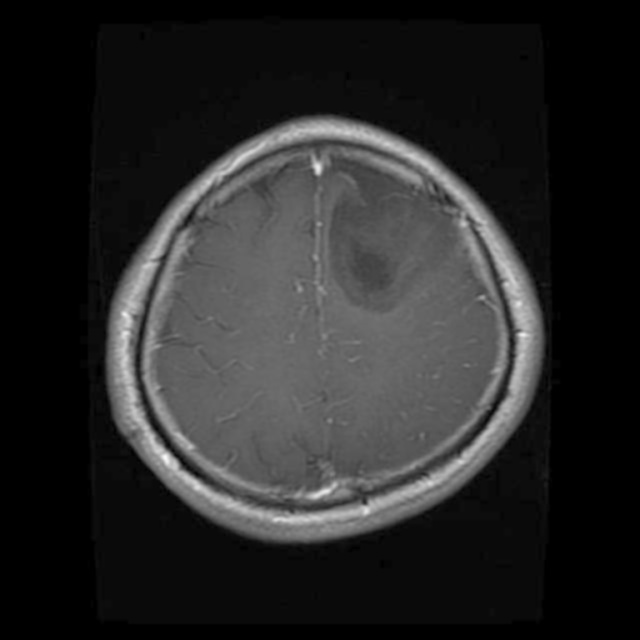pituitary tumor: (335, 186, 451, 295)
